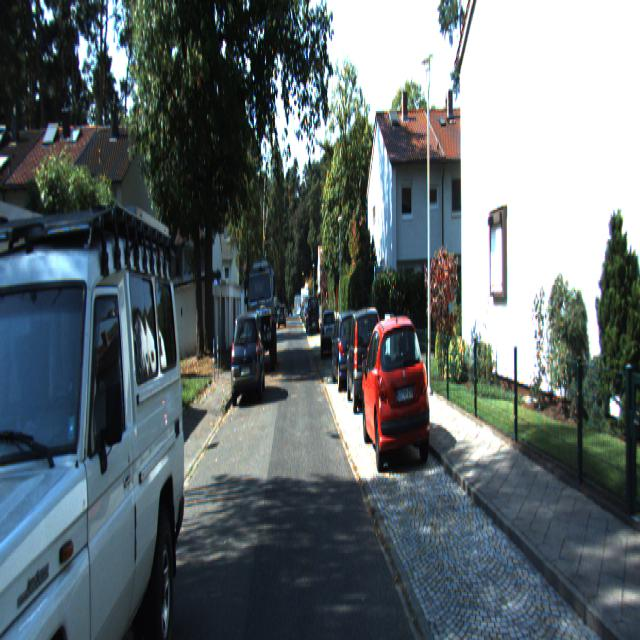Car: (0, 87, 186, 638), (358, 309, 430, 479), (345, 304, 384, 410), (230, 305, 264, 403), (248, 254, 276, 362), (330, 312, 363, 398), (320, 308, 338, 359), (307, 294, 320, 336)
